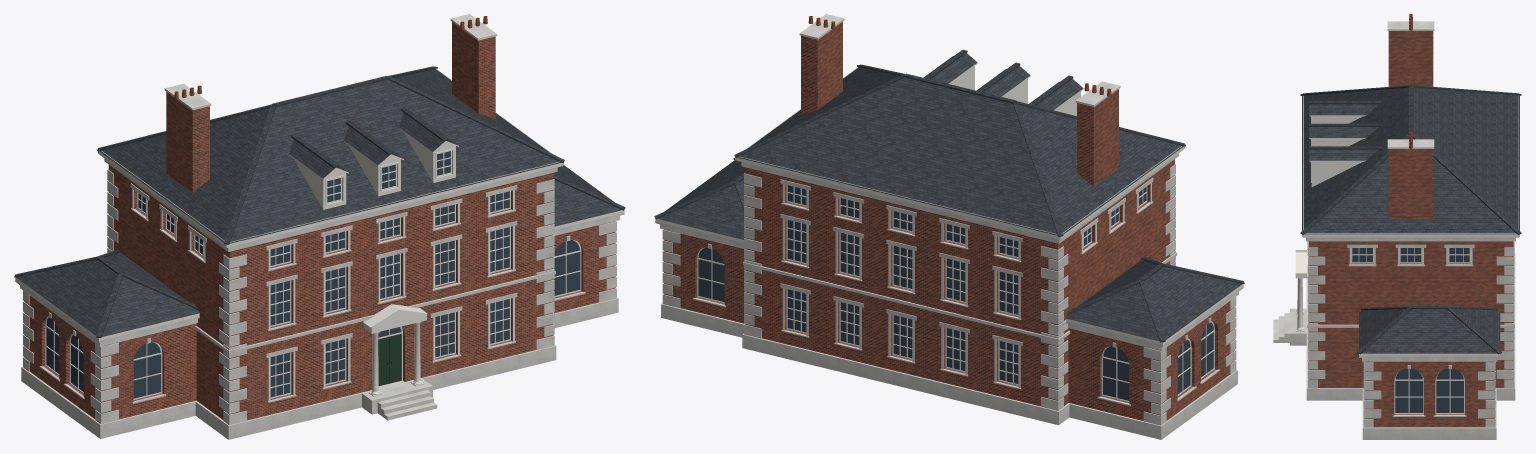
Rendered from georgian-manor.glb.
3 views of the same model, side by side, from view 1: azimuth 30°, elevation 25°; view 2: azimuth 150°, elevation 25°; view 3: azimuth 270°, elevation 25° (orthographic). The views are drawn at different scales.
Visible parts, largest first — view 1: Georgian_Manor; view 2: Georgian_Manor; view 3: Georgian_Manor.
Part boxes in pixels (bbox=[...]): Georgian_Manor: bbox=[14, 14, 625, 439]; Georgian_Manor: bbox=[654, 14, 1244, 439]; Georgian_Manor: bbox=[1273, 14, 1521, 439].
Bounding box in the file's own units: 27.79 × 15.06 × 13.34.
Materials: 11 (4 with a texture image).
